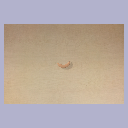banana: (55, 60, 70, 69)
